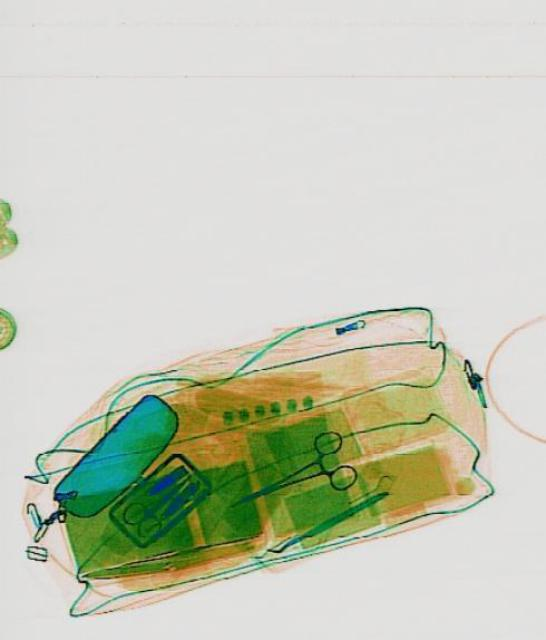Scissors: (218, 424, 358, 536), (117, 455, 202, 545)
